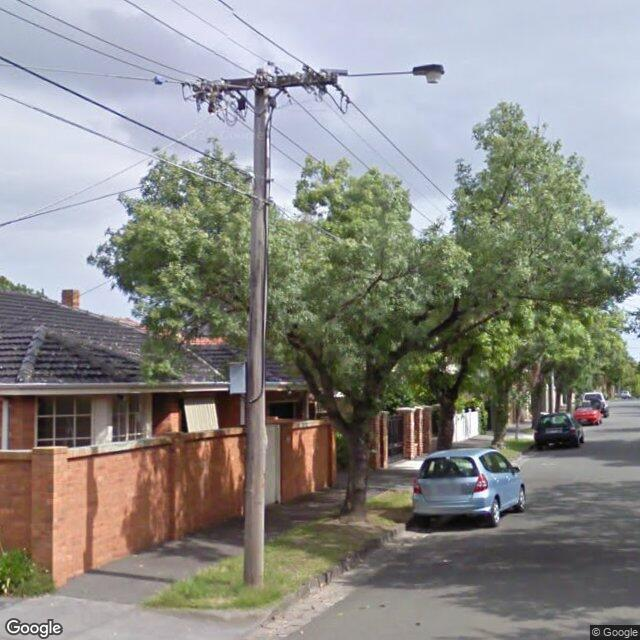crossarm: (192, 71, 338, 93)
streetlight: (339, 64, 445, 84)
timber-pole: (243, 68, 268, 587)
